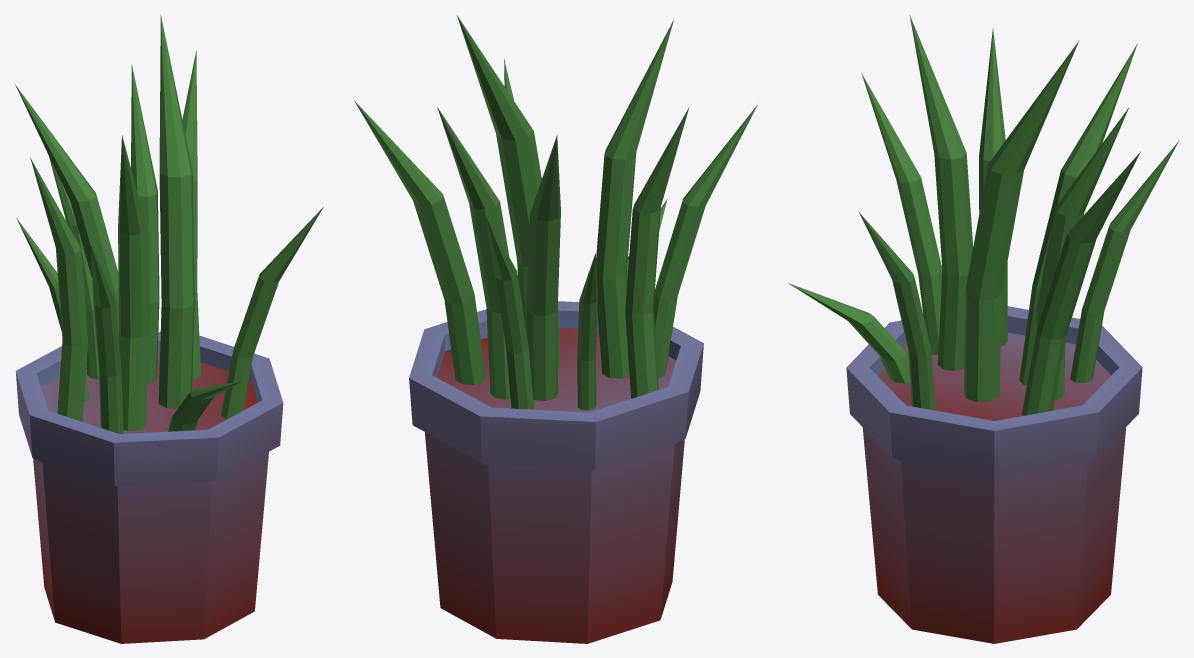
File: Livingroom2_Flower.fbx
3 renders of one model, left to right at view 1: azimuth 30°, elevation 25°; view 2: azimuth 150°, elevation 25°; view 3: azimuth 270°, elevation 25°, orthographic. The views are drawn at different scales.
Visible parts, largest first — view 1: Livingroom2_Flower; view 2: Livingroom2_Flower; view 3: Livingroom2_Flower.
Boxes of the visible parts, x1,y1,x2,y2 form: Livingroom2_Flower: (15, 14, 323, 643); Livingroom2_Flower: (354, 15, 757, 643); Livingroom2_Flower: (788, 15, 1178, 643).
Size of the model in its own units: 21.62 by 46.63 by 28.54.
